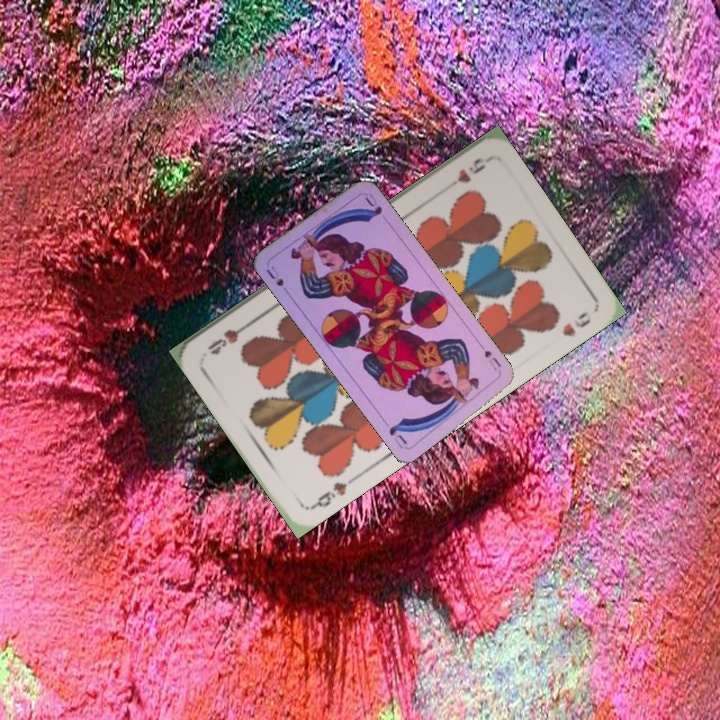H9: (439, 153, 491, 194), (306, 473, 358, 512)
SU: (262, 261, 293, 298), (480, 346, 504, 376)
